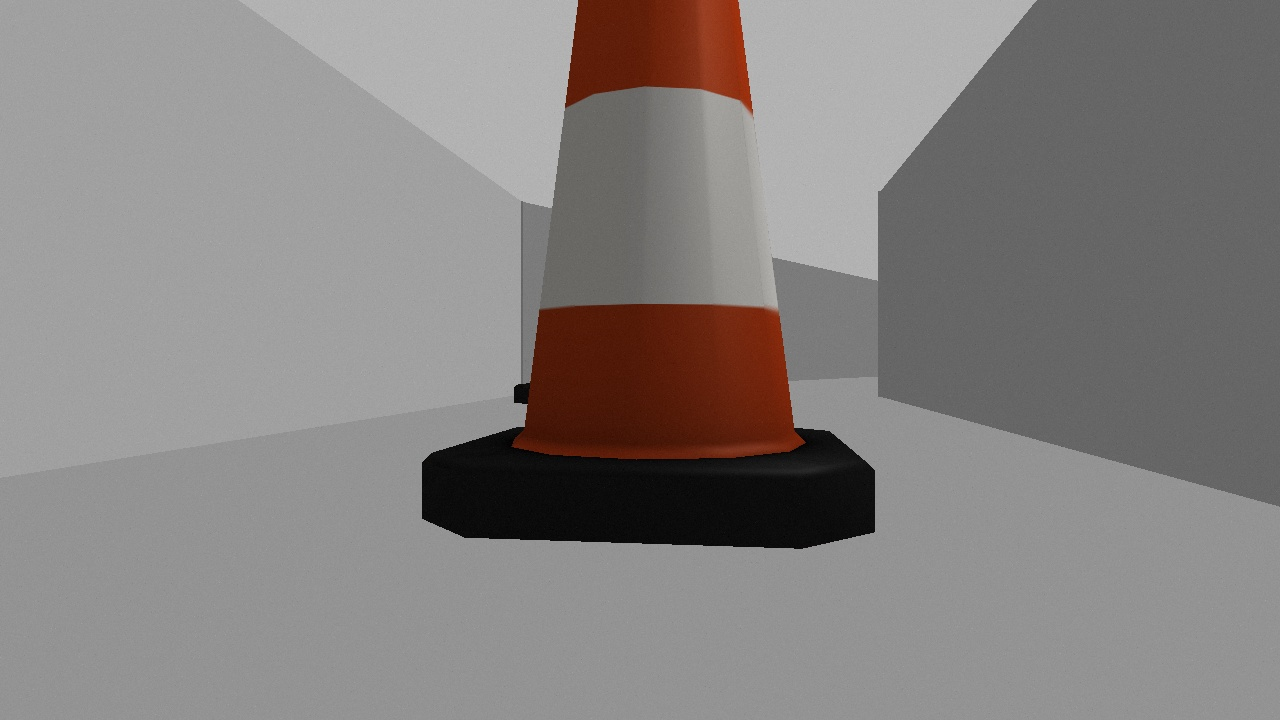barricade: (419, 1, 877, 547)
